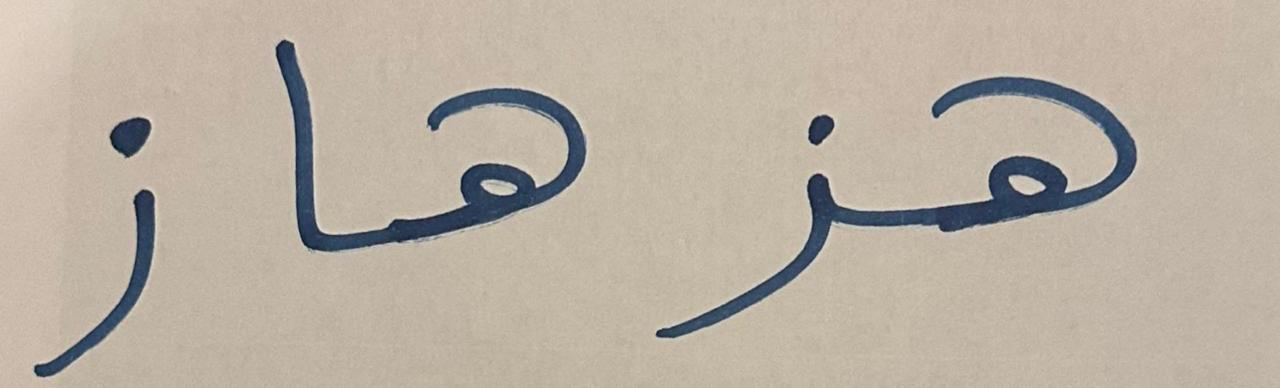alef: (251, 6, 368, 320)
hamza: (1, 40, 248, 382), (615, 52, 877, 358)
jeem: (882, 3, 1186, 266), (371, 26, 612, 294)
